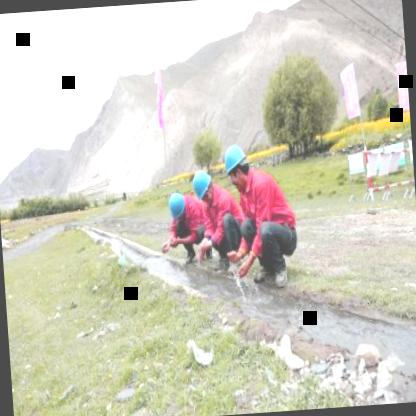helmet: (221, 142, 251, 190), (188, 167, 216, 207), (164, 190, 188, 223)
